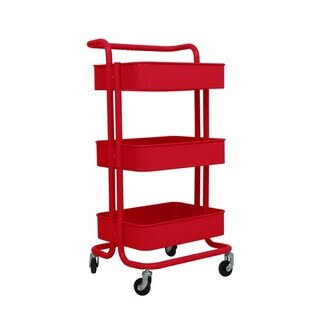Carts: (84, 39, 234, 298)
